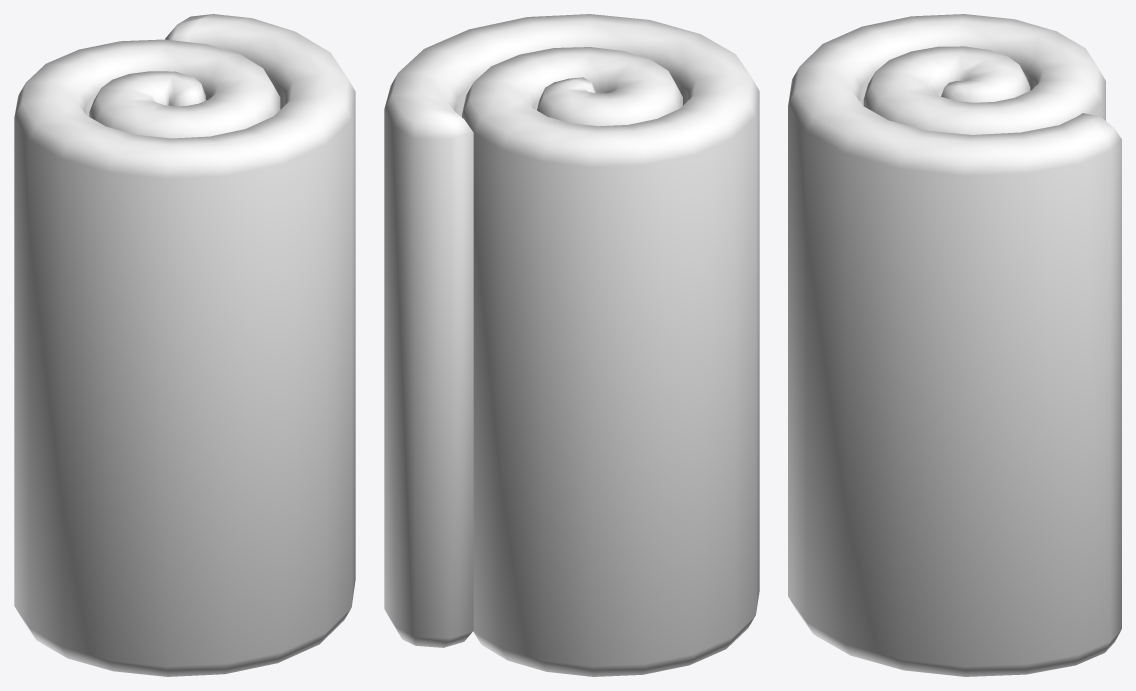
File: towel.fbx
3 renders of one model, left to right at view 1: azimuth 30°, elevation 25°; view 2: azimuth 150°, elevation 25°; view 3: azimuth 270°, elevation 25°, orthographic. The views are drawn at different scales.
Parts seen in each view (by area): view 1: towel; view 2: towel; view 3: towel.
Boxes of the visible parts, x1,y1,x2,y2 form: towel: (14,14,355,676); towel: (384,14,759,676); towel: (788,14,1121,676).
Size of the model in its own units: 13.01 by 21.14 by 12.13.
Materials: 1 (1 with a texture image).
